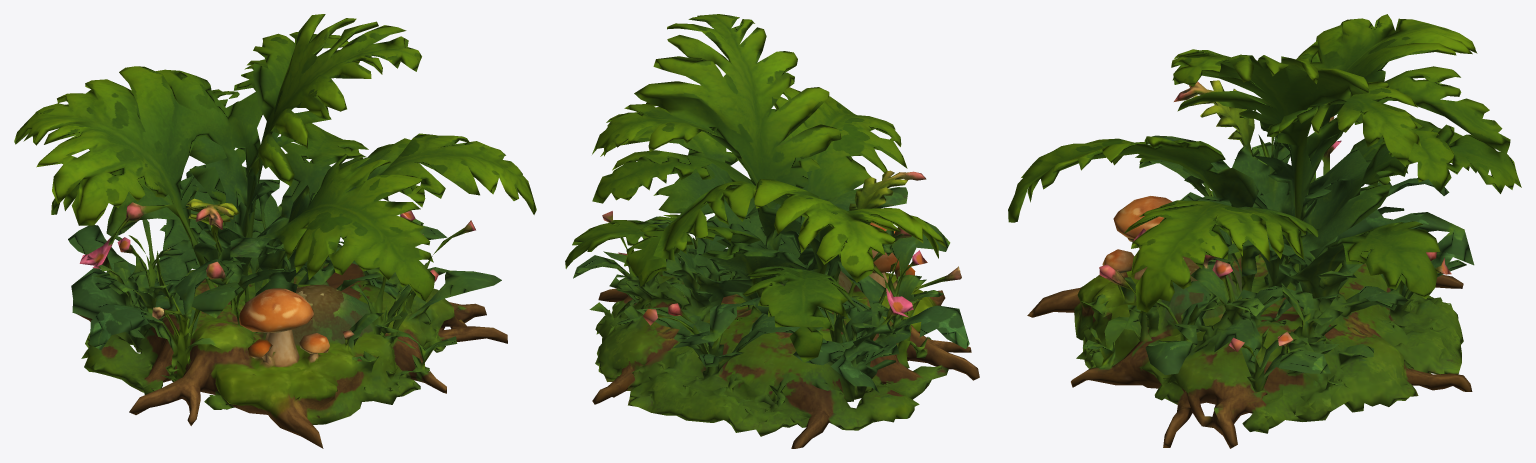
File: forest-understory.glb
The picture shows the model from 3 angles, left to right: view 1: azimuth 30°, elevation 25°; view 2: azimuth 150°, elevation 25°; view 3: azimuth 270°, elevation 25°; orthographic projection. The views are drawn at different scales.
Size of the model in its own units: 0.9605 by 0.7014 by 0.9612.
1 material, 1 textured.
